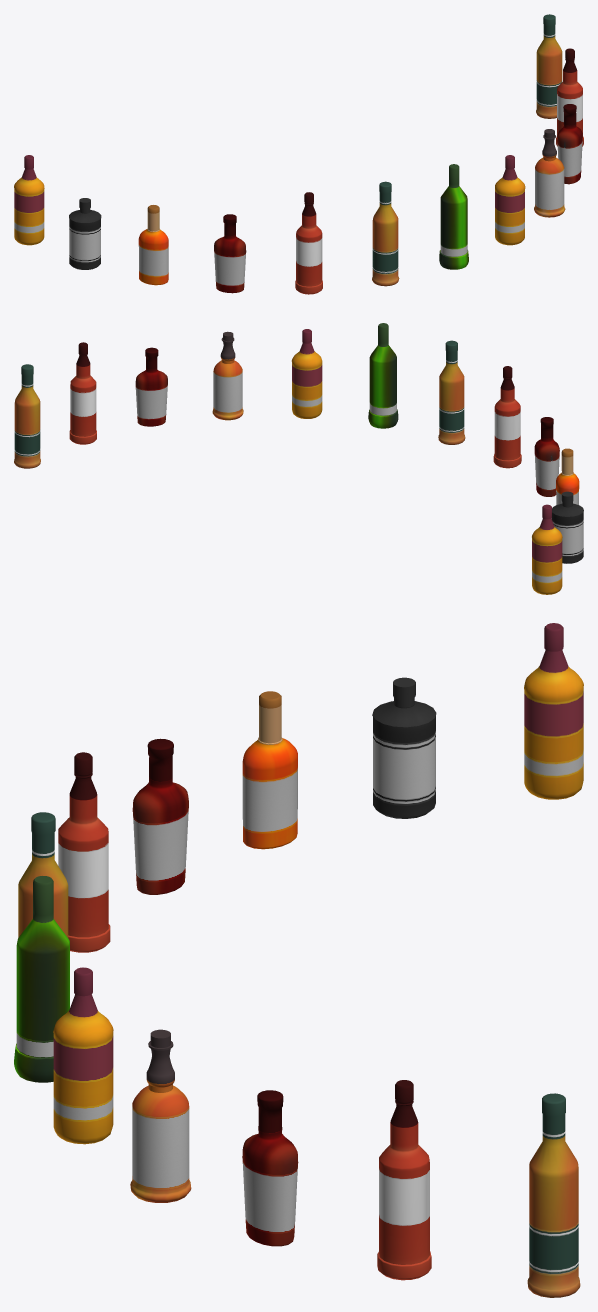
The model's file is Bottles01_15.FBX.
3 views of the same model, one above another, from view 1: azimuth 30°, elevation 25°; view 2: azimuth 150°, elevation 25°; view 3: azimuth 270°, elevation 25° (orthographic). The views are drawn at different scales.
Visible parts, largest first — view 1: Bottles01_15; view 2: Bottles01_15; view 3: Bottles01_15.
Part boxes in pixels (x1=…): Bottles01_15: x1=14, y1=14, x2=583, y2=294; Bottles01_15: x1=14, y1=323, x2=583, y2=594; Bottles01_15: x1=14, y1=623, x2=583, y2=1297.
Bounding box in the file's own units: 179 × 30.73 × 82.65.
